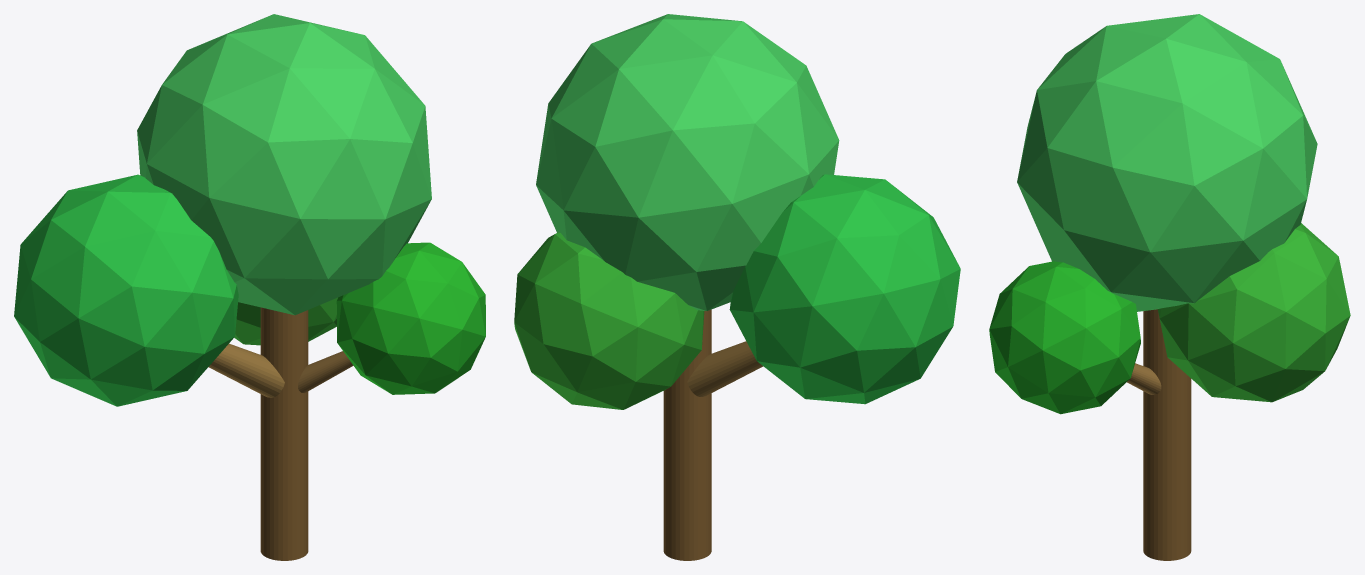
File: 高橡树2.fbx
3 renders of one model, left to right at view 1: azimuth 30°, elevation 25°; view 2: azimuth 150°, elevation 25°; view 3: azimuth 270°, elevation 25°, orthographic.
Visible parts, largest first — view 1: Icosphere, Icosphere.002, Icosphere.001, Cylinder, Cylinder.001, Icosphere.003, Cylinder.002; view 2: Icosphere, Icosphere.002, Icosphere.003, Cylinder, Cylinder.001; view 3: Icosphere, Icosphere.003, Icosphere.001, Cylinder, Cylinder.002.
Part boxes in pixels (x1,y1,x2,y2): Icosphere: (137, 14, 431, 315); Icosphere.002: (14, 174, 238, 406); Icosphere.001: (336, 242, 485, 394); Cylinder: (260, 307, 308, 560); Cylinder.001: (208, 343, 284, 397); Icosphere.003: (234, 297, 337, 345); Cylinder.002: (298, 351, 353, 392); Icosphere: (536, 14, 839, 310); Icosphere.002: (729, 174, 960, 404); Icosphere.003: (514, 232, 704, 409); Cylinder: (663, 309, 711, 560); Cylinder.001: (687, 341, 763, 396); Icosphere: (1017, 14, 1317, 311); Icosphere.003: (1157, 223, 1350, 402); Icosphere.001: (989, 261, 1140, 414); Cylinder: (1143, 309, 1191, 560); Cylinder.002: (1127, 363, 1161, 394).
Size of the model in its own units: 3 by 3.77 by 2.35.
